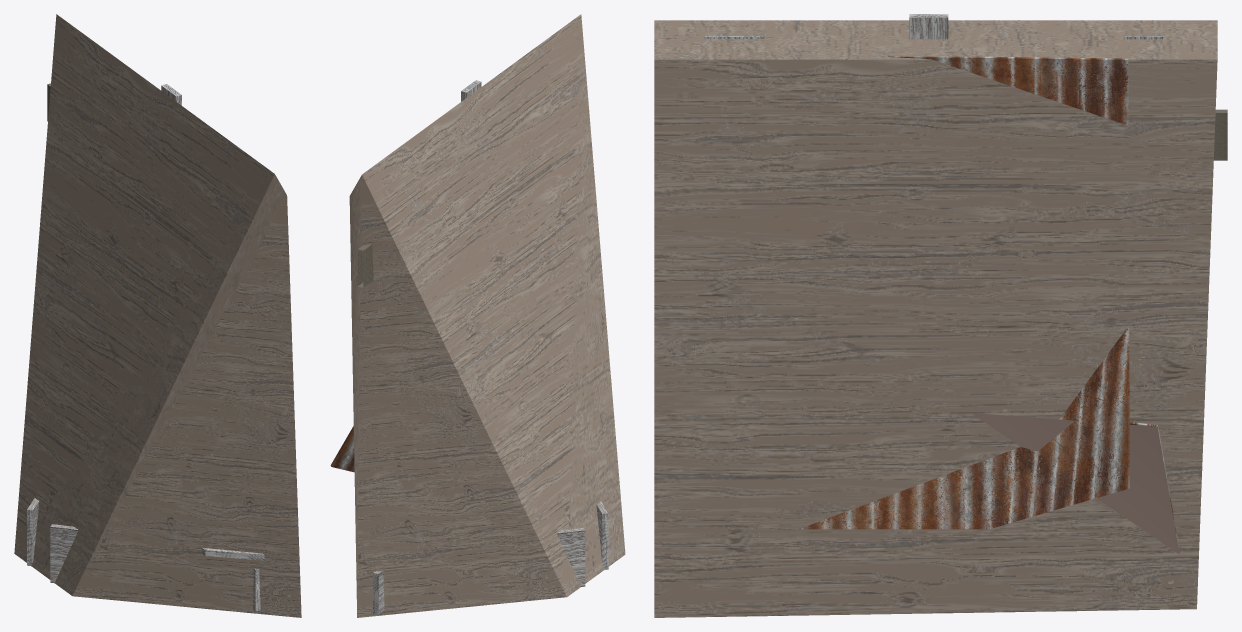
The model's file is si_slumber_wall_c.DAE.
3 views of the same model, side by side, from view 1: azimuth 30°, elevation 25°; view 2: azimuth 150°, elevation 25°; view 3: azimuth 270°, elevation 25° (orthographic). The views are drawn at different scales.
Visible parts, largest first — view 1: Colmesh-1, si_slumber_wall_c100; view 2: Colmesh-1, si_slumber_wall_c100, si_slumber_wall_c15; view 3: Colmesh-1, si_slumber_wall_c100, si_slumber_wall_c15.
Part boxes in pixels (x1,y1,x2,y2): Colmesh-1: (14, 14, 301, 617); si_slumber_wall_c100: (27, 83, 264, 611); Colmesh-1: (349, 14, 625, 617); si_slumber_wall_c100: (330, 80, 608, 615); si_slumber_wall_c15: (357, 244, 373, 286); Colmesh-1: (654, 20, 1217, 617); si_slumber_wall_c100: (704, 14, 1227, 550); si_slumber_wall_c15: (971, 113, 1227, 554).
Bounding box in the file's own units: 102 × 204 × 231.
